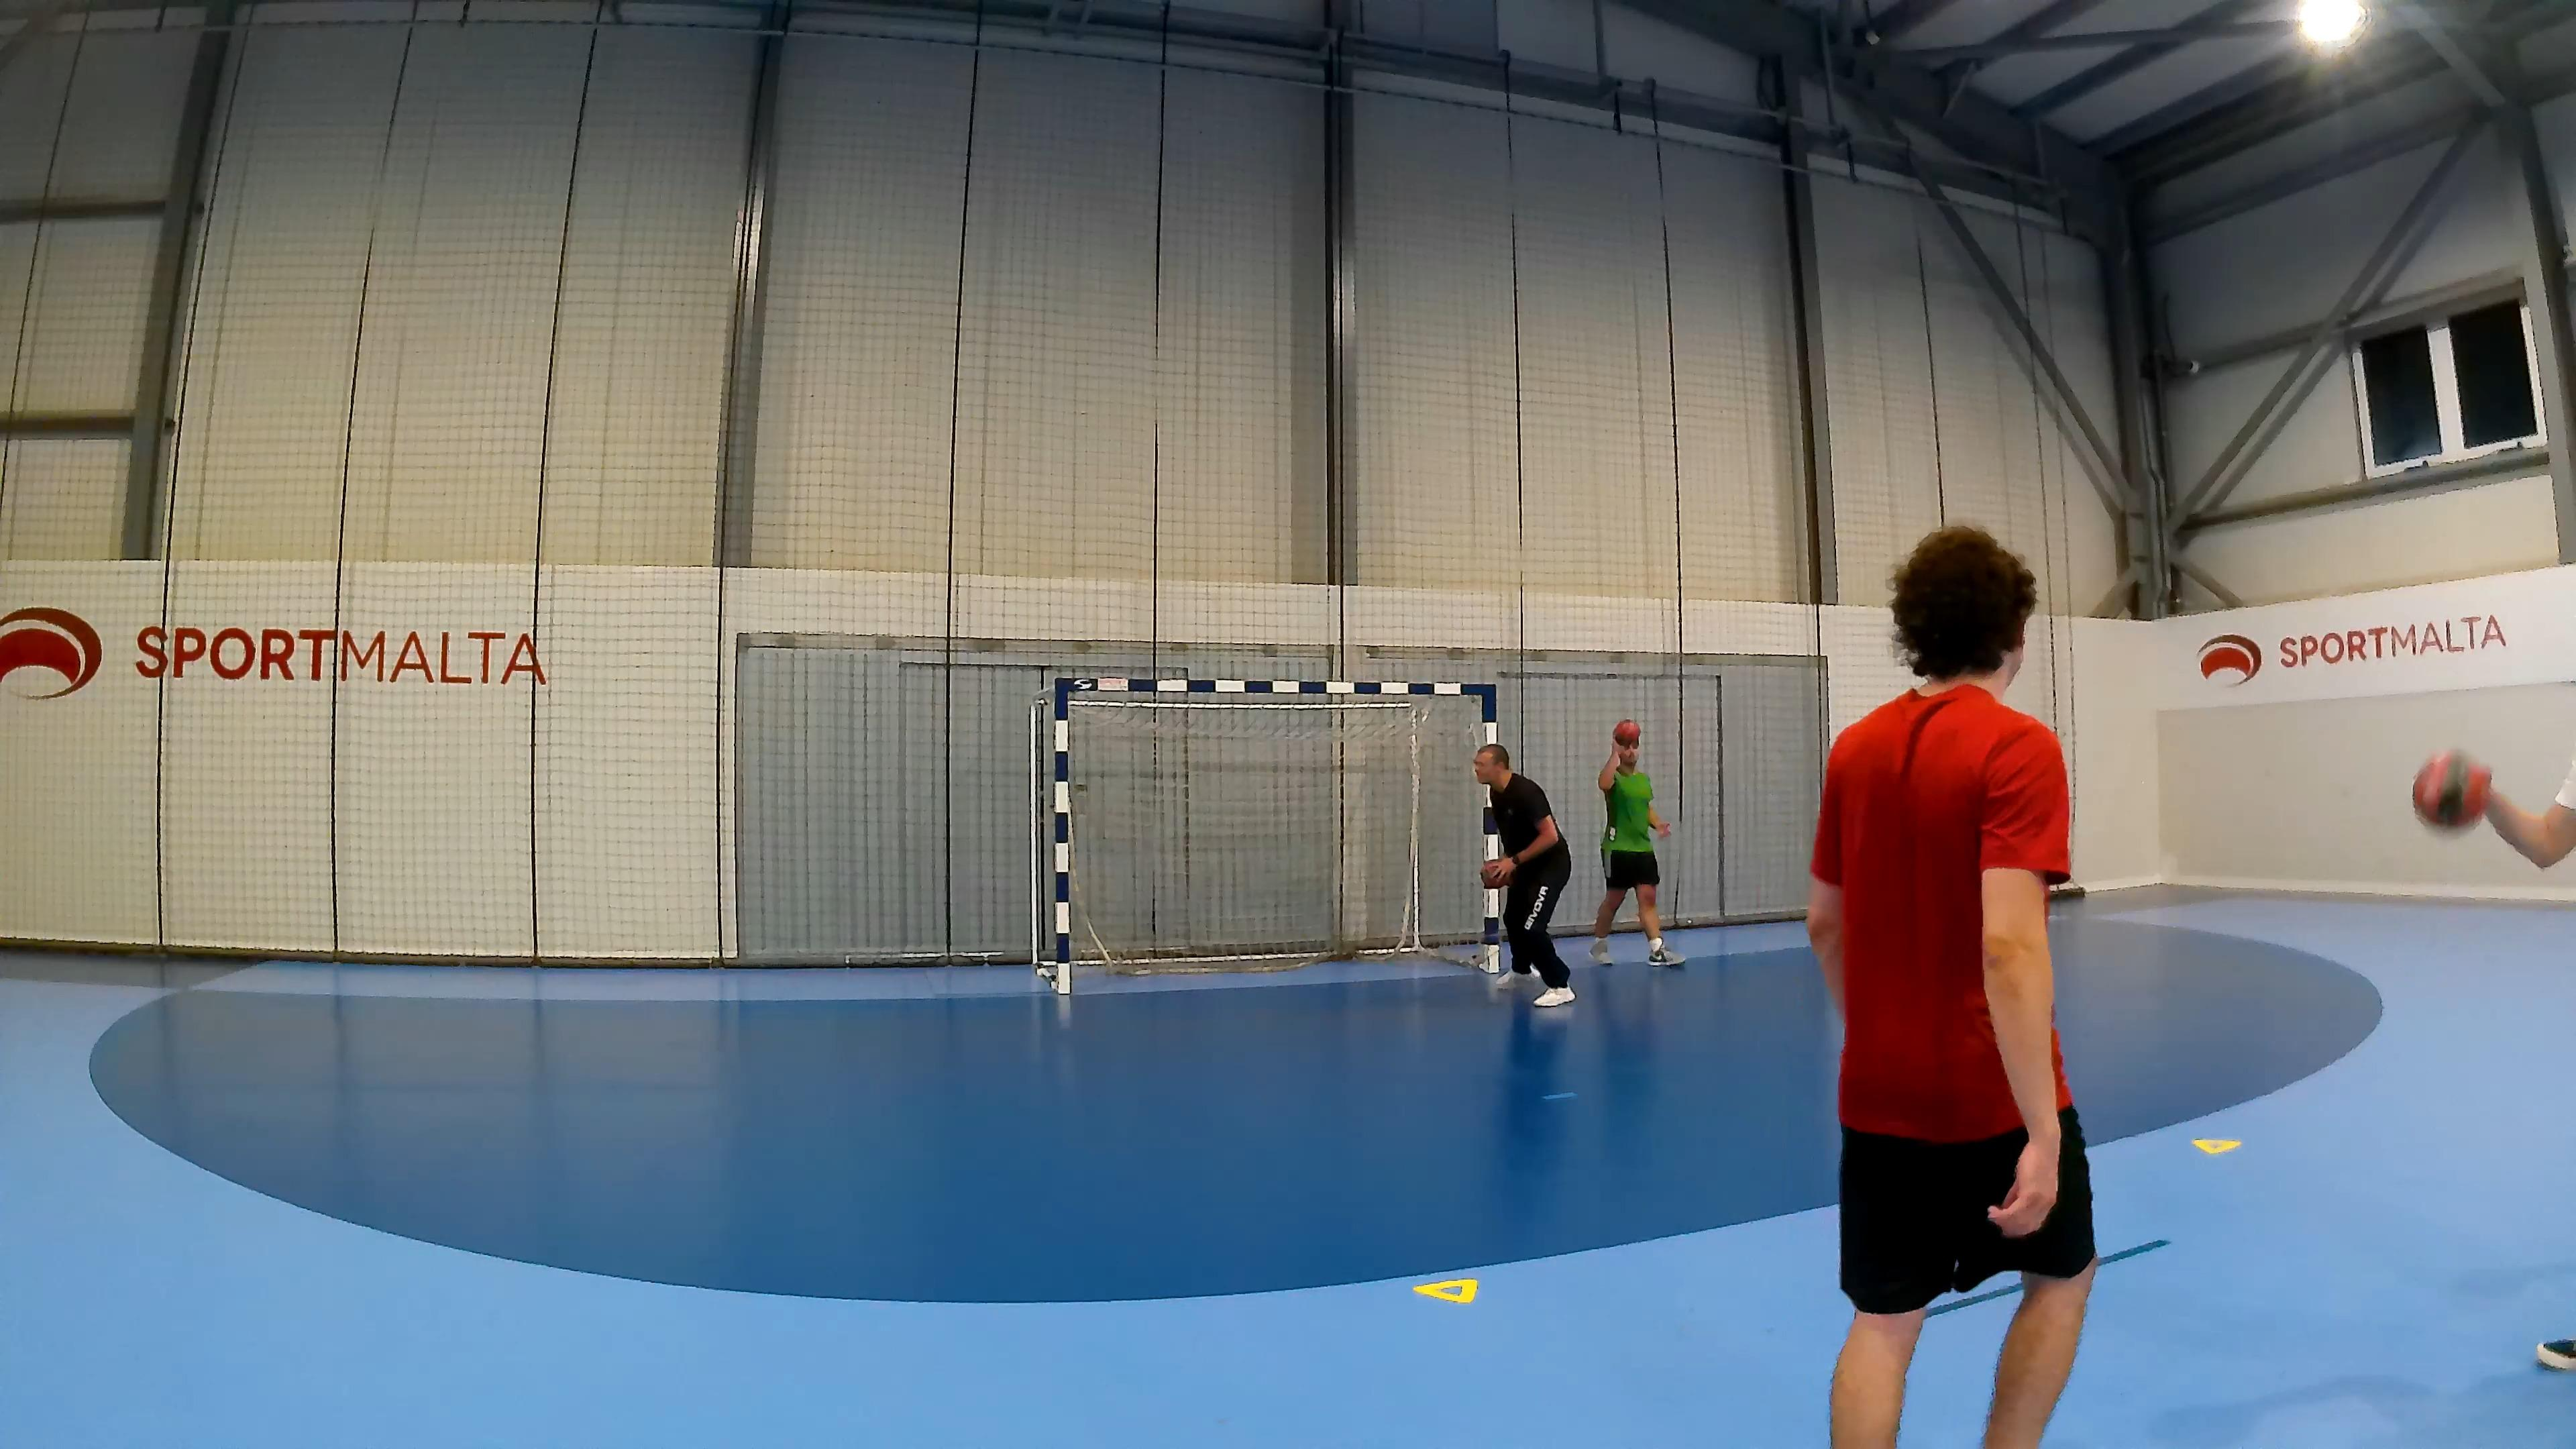handball: (2410, 748, 2491, 830), (1610, 711, 1644, 755)
